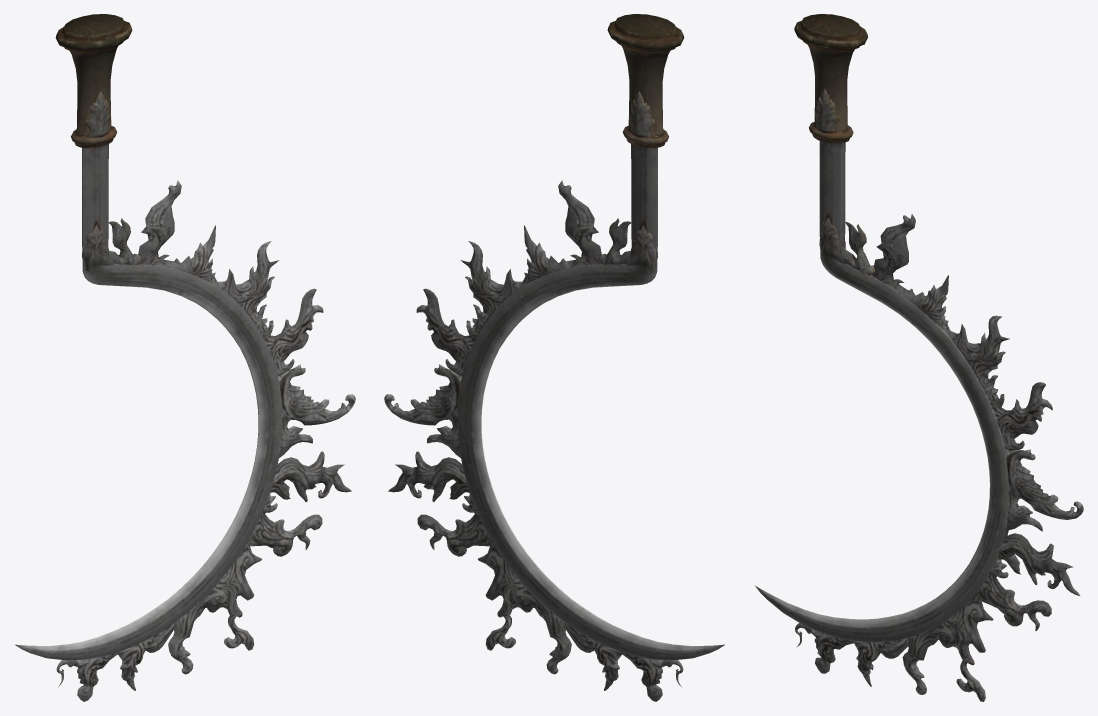
File: weapon-wp_a_0422.glb
3 renders of one model, left to right at view 1: azimuth 30°, elevation 25°; view 2: azimuth 150°, elevation 25°; view 3: azimuth 330°, elevation 25°, orthographic. The views are drawn at different scales.
Parts seen in each view (by area): view 1: wp_a_0422_mesh; view 2: wp_a_0422_mesh; view 3: wp_a_0422_mesh.
Part boxes in pixels (x1,y1,x2,y2): wp_a_0422_mesh: (15, 14, 355, 701); wp_a_0422_mesh: (384, 14, 724, 701); wp_a_0422_mesh: (754, 14, 1083, 701).
Bounding box in the file's own units: 0.4638 × 0.8796 × 0.0693.
1 material, 1 textured.
